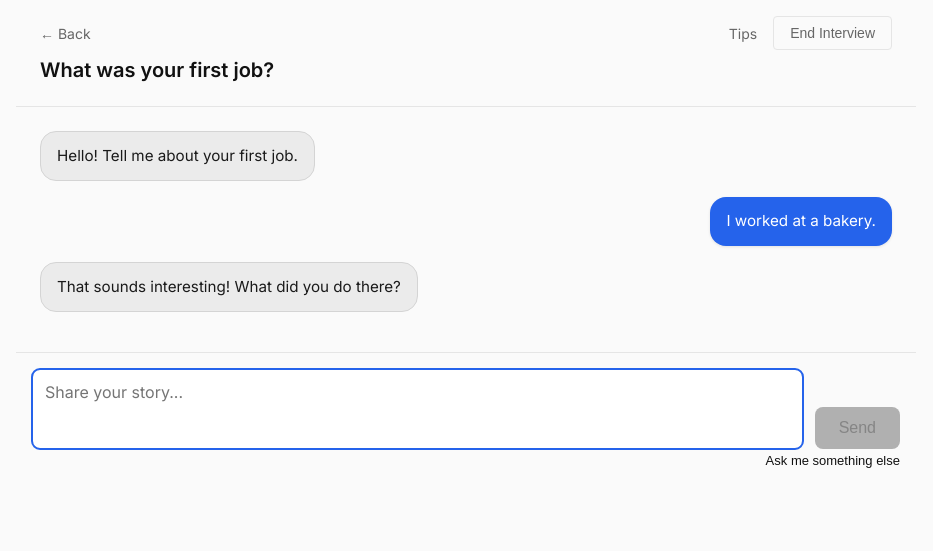
Test case: InterviewSession › Redirect button › adds only ASSISTANT message on success (no optimistic USER message)
The image size is (933, 551).
Click the button "Ask me something else". click: click(833, 460)
box: x1=766 y1=449 x2=900 y2=472
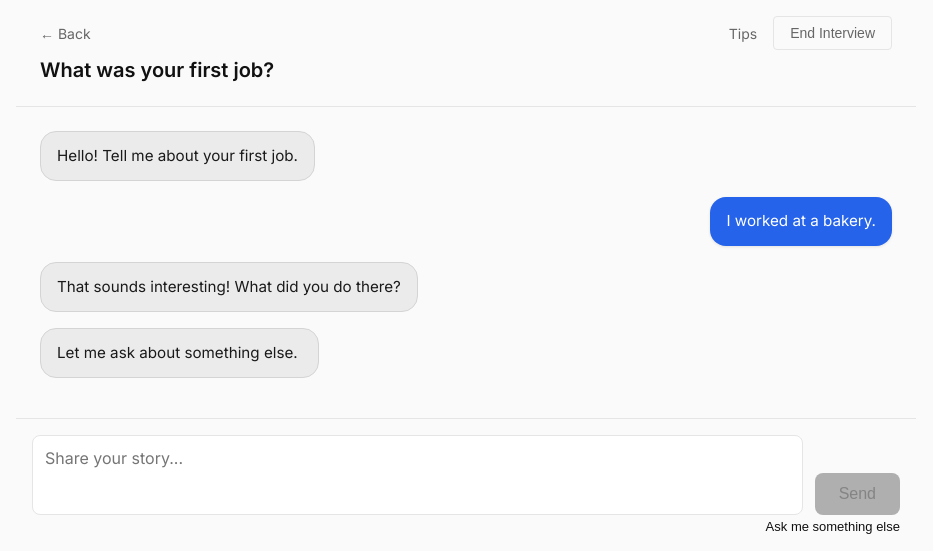
Result: the text "Let me ask about something else." is shown at x1=40 y1=328 x2=319 y2=378
